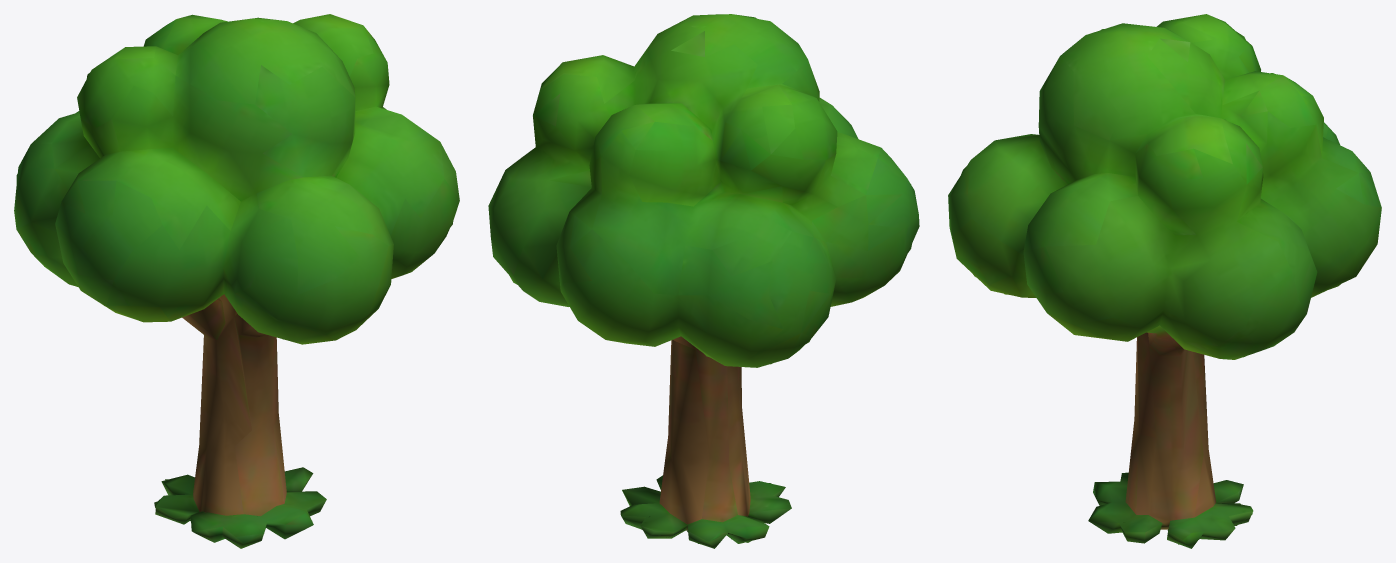
Rendered from x-tree-oak-young.glb.
The picture shows the model from 3 angles, left to right: view 1: azimuth 30°, elevation 25°; view 2: azimuth 150°, elevation 25°; view 3: azimuth 270°, elevation 25°; orthographic projection. The views are drawn at different scales.
Visible parts, largest first — view 1: geometry_0; view 2: geometry_0; view 3: geometry_0.
Part boxes in pixels (box(x1,y1,x2,y2)): geometry_0: box(14, 14, 459, 548); geometry_0: box(488, 14, 919, 548); geometry_0: box(948, 14, 1381, 548).
Bounding box in the file's own units: 0.7614 × 1 × 0.8009.
1 material, 1 textured.
